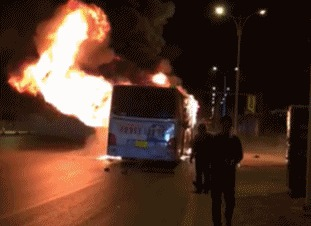fire: (7, 3, 115, 123)
